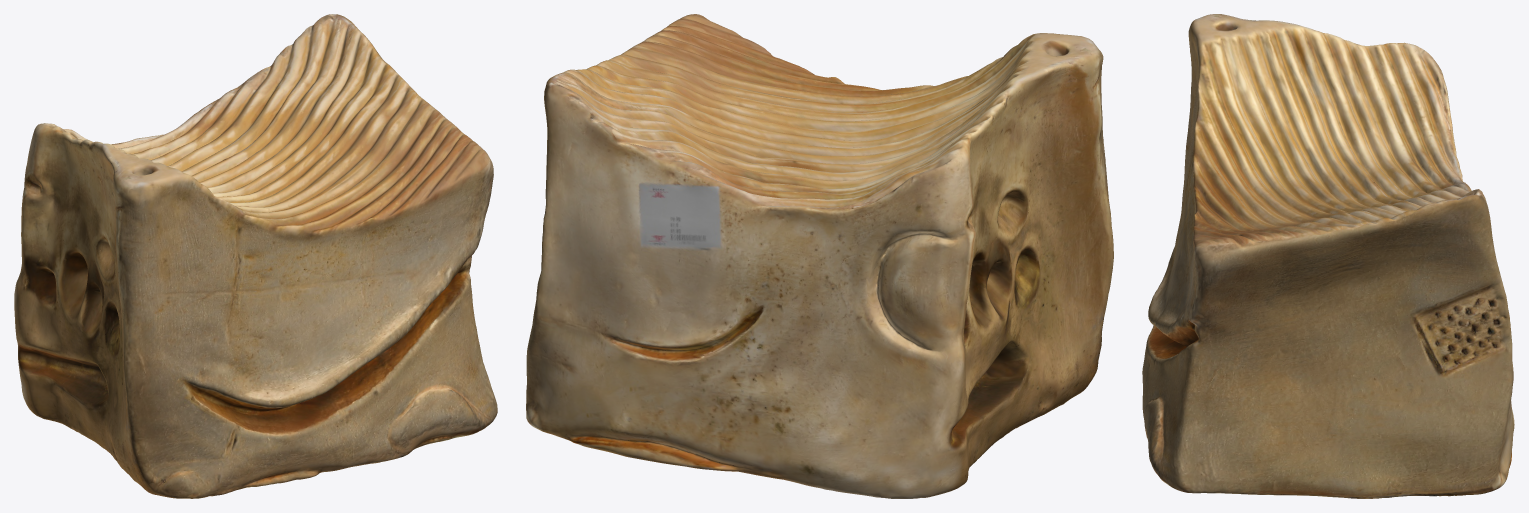
The model's file is liujin1.glb.
3 renders of one model, left to right at view 1: azimuth 30°, elevation 25°; view 2: azimuth 150°, elevation 25°; view 3: azimuth 270°, elevation 25°, orthographic. The views are drawn at different scales.
Visible parts, largest first — view 1: low_UV3-004.002; view 2: low_UV3-004.002; view 3: low_UV3-004.002.
Part boxes in pixels (left/top/right/bottom): low_UV3-004.002: left=14, top=14, right=497, bottom=498; low_UV3-004.002: left=526, top=14, right=1113, bottom=498; low_UV3-004.002: left=1142, top=14, right=1514, bottom=498.
Size of the model in its own units: 3 by 2.39 by 2.6.
1 material, 1 textured.
